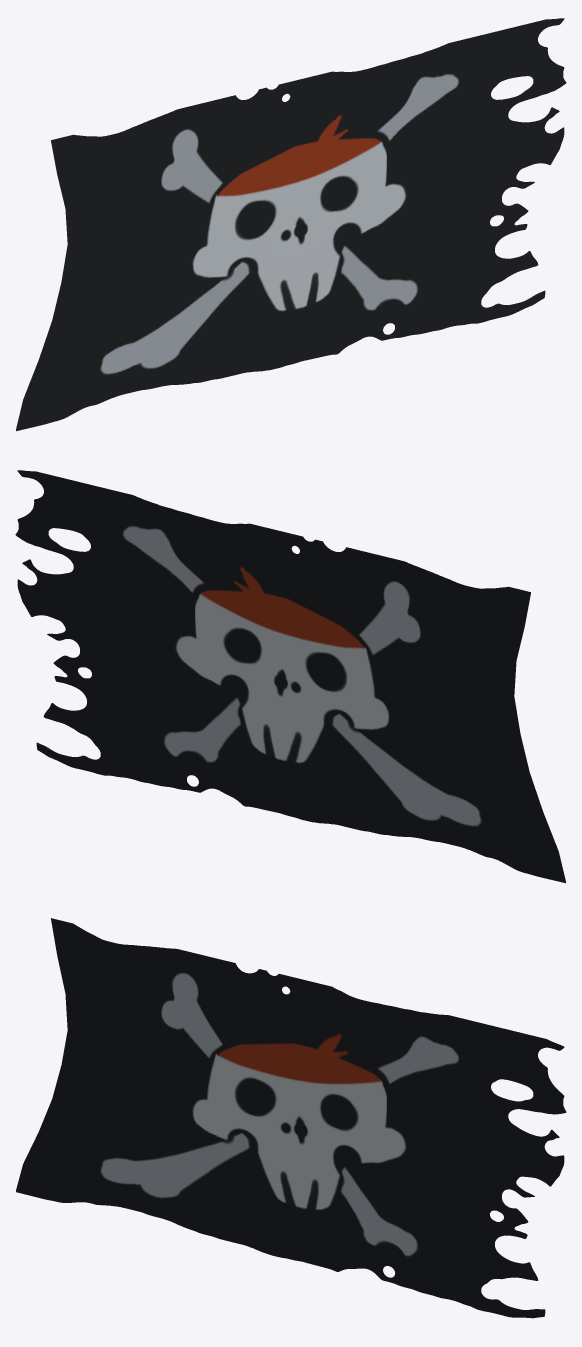
File: flag.fbx
3 renders of one model, top to bottom at view 1: azimuth 30°, elevation 25°; view 2: azimuth 150°, elevation 25°; view 3: azimuth 330°, elevation 25°, orthographic.
Parts seen in each view (by area): view 1: pPlane4; view 2: pPlane4; view 3: pPlane4.
Part boxes in pixels (x1,y1,x2,y2): pPlane4: (16, 18, 566, 431); pPlane4: (15, 470, 565, 883); pPlane4: (16, 918, 566, 1318).
Bounding box in the file's own units: 10.79 × 5.37 × 3.81e-08.
